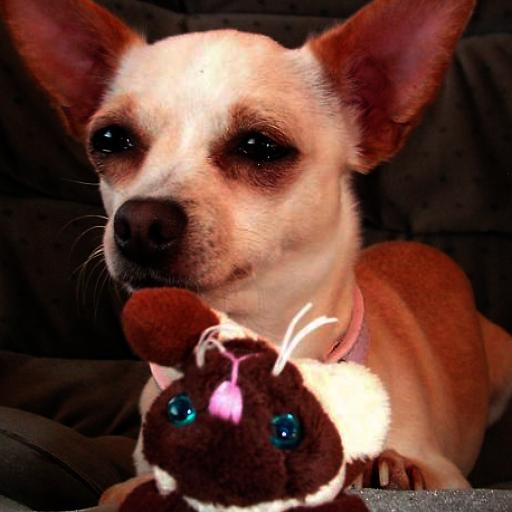dog_face: (0, 0, 467, 305)
